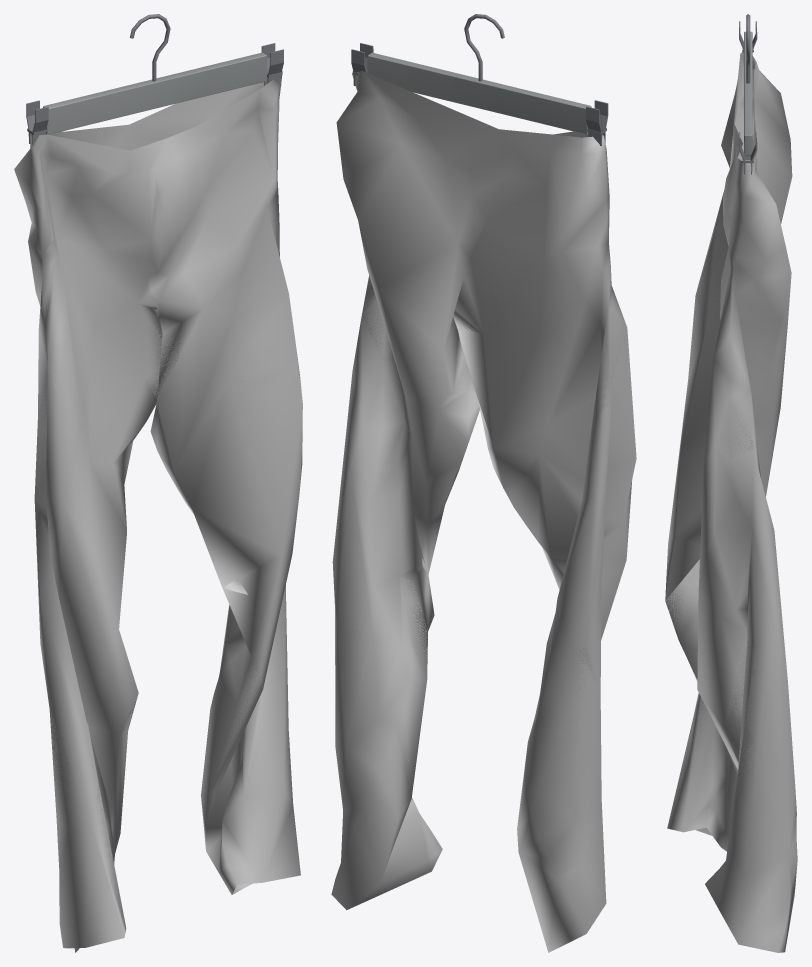
File: pantsGeneric.FBX
3 renders of one model, left to right at view 1: azimuth 30°, elevation 25°; view 2: azimuth 150°, elevation 25°; view 3: azimuth 270°, elevation 25°, orthographic. The views are drawn at different scales.
Parts seen in each view (by area): view 1: pants_generic_LOD0, _Hanger-2_LOD0; view 2: pants_generic_LOD0, _Hanger-2_LOD0; view 3: pants_generic_LOD0, _Hanger-2_LOD0.
Boxes of the visible parts, x1,y1,x2,y2 form: pants_generic_LOD0: (14, 74, 302, 952); _Hanger-2_LOD0: (26, 14, 283, 146); pants_generic_LOD0: (331, 71, 636, 952); _Hanger-2_LOD0: (351, 14, 608, 145); pants_generic_LOD0: (665, 52, 797, 952); _Hanger-2_LOD0: (739, 14, 757, 174).
Size of what is drawn, in the model's own units: 35.06 by 15.24 by 113.
